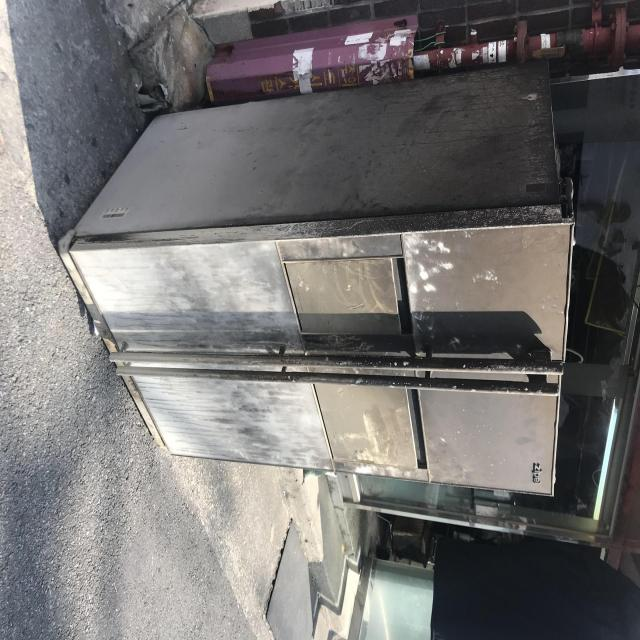refrigerator: (52, 50, 579, 504)
